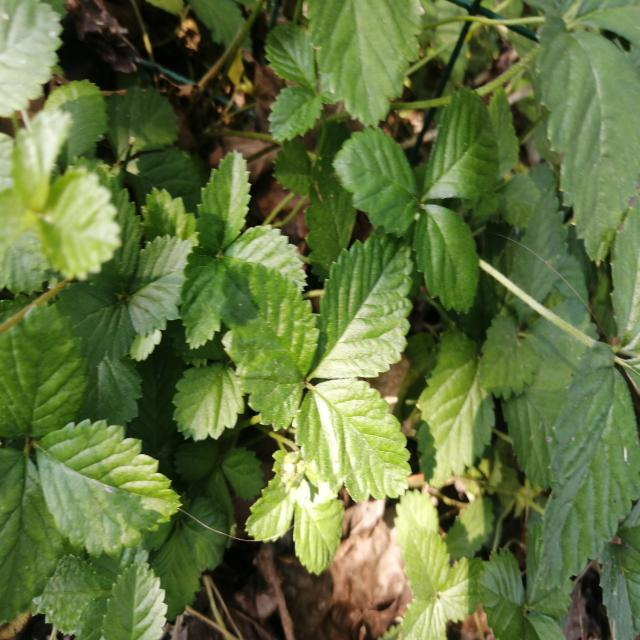Mock_strawberry: (209, 230, 433, 496)
